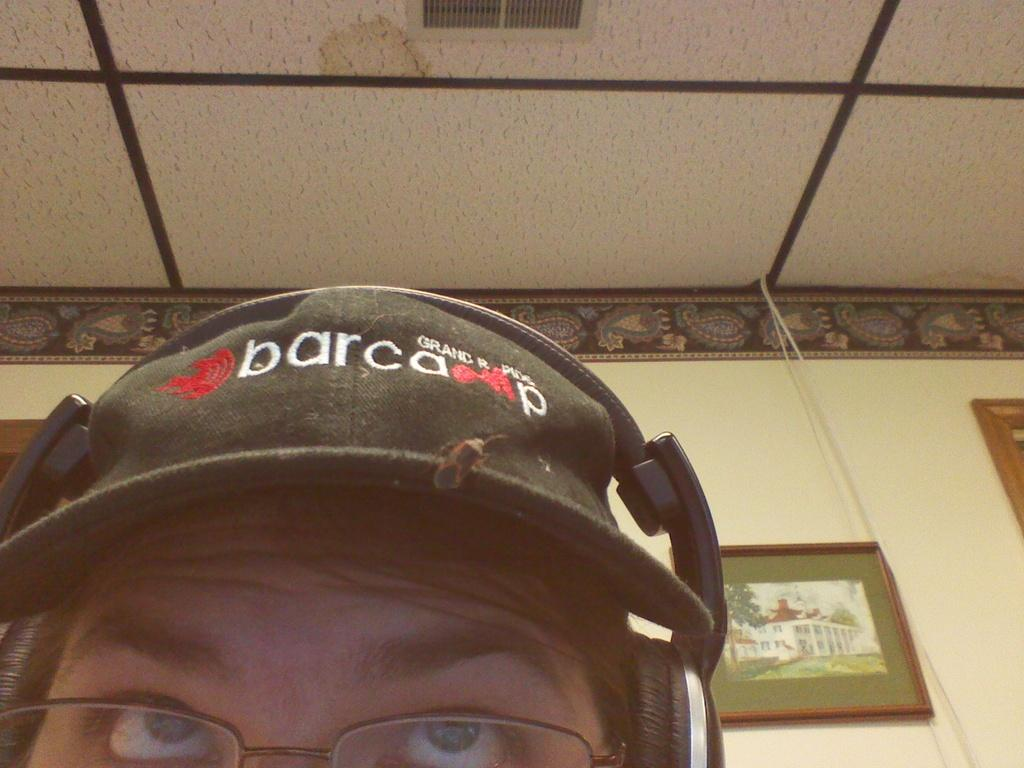Hat: (0, 279, 712, 634)
